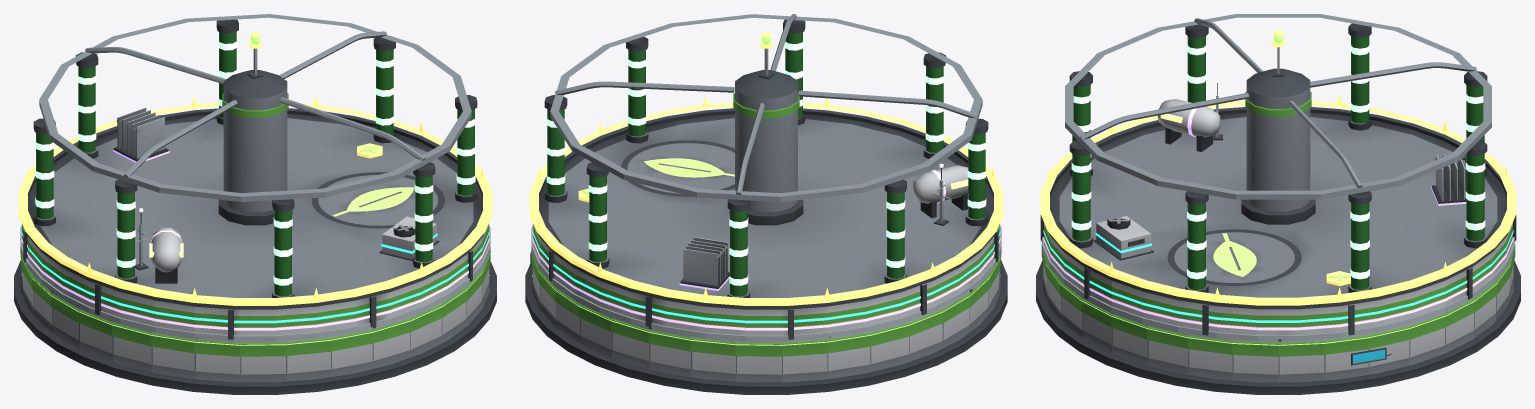
The model's file is algae_bioreactor_m.glb.
The picture shows the model from 3 angles, left to right: view 1: azimuth 30°, elevation 25°; view 2: azimuth 150°, elevation 25°; view 3: azimuth 270°, elevation 25°; orthographic projection.
Parts seen in each view (by area): view 1: Roof, Base, L4, Wall_21, Wall_20, Wall_22, Wall_19, Wall_23, Wall_18, Wall_24, Wall_17, Wall_25 (+22 smaller); view 2: Roof, Base, L4, Wall_10, Wall_11, Wall_09, Wall_12, Wall_08, Wall_13, Wall_07, Wall_14, Wall_06 (+21 smaller); view 3: Roof, Base, L4, Wall_00, Wall_31, L3, Wall_30, Wall_29, Wall_01, Wall_02, Wall_28, Wall_03 (+22 smaller).
Boxes of the visible parts, x1,y1,x2,y2 form: Roof: (26, 14, 484, 309); Base: (14, 260, 496, 394); L4: (113, 107, 183, 283); Wall_21: (240, 341, 286, 382); Wall_20: (194, 337, 240, 382); Wall_22: (286, 336, 331, 381); Wall_19: (151, 331, 194, 379); Wall_23: (330, 328, 373, 376); Wall_18: (112, 321, 151, 372); Wall_24: (372, 317, 410, 368); Wall_17: (78, 308, 112, 361); Wall_25: (410, 303, 442, 357); Roof: (537, 14, 995, 309); Base: (525, 260, 1007, 394); L4: (679, 165, 968, 290); Wall_10: (735, 341, 781, 382); Wall_11: (781, 338, 827, 382); Wall_09: (690, 336, 735, 381); Wall_12: (827, 331, 870, 379); Wall_08: (648, 327, 691, 376); Wall_13: (870, 321, 909, 372); Wall_07: (611, 317, 649, 368); Wall_14: (909, 308, 943, 361); Wall_06: (579, 303, 611, 357); Roof: (1048, 14, 1508, 309); Base: (1036, 260, 1520, 394); L4: (1157, 99, 1466, 205); Wall_00: (1278, 339, 1324, 382); Wall_31: (1232, 339, 1278, 382); L3: (1093, 216, 1153, 260); Wall_30: (1188, 334, 1232, 380); Wall_29: (1147, 325, 1188, 374); Wall_01: (1324, 334, 1368, 380); Wall_02: (1368, 325, 1409, 374); Wall_28: (1111, 311, 1147, 365); Wall_03: (1409, 313, 1445, 365).
Bounding box in the file's own units: 13.25 × 7.84 × 13.25.
